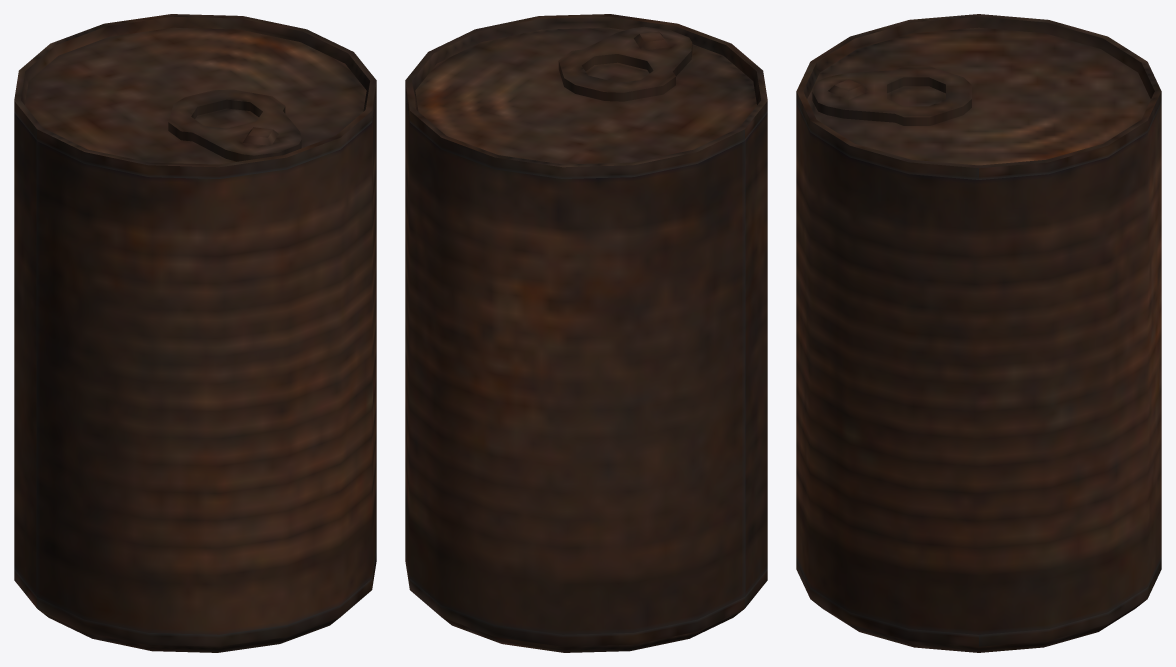
File: canned_food_mp_5_rusty.obj
3 renders of one model, left to right at view 1: azimuth 30°, elevation 25°; view 2: azimuth 150°, elevation 25°; view 3: azimuth 270°, elevation 25°, orthographic.
Parts seen in each view (by area): view 1: canned_food_mp_5_rusty; view 2: canned_food_mp_5_rusty; view 3: canned_food_mp_5_rusty.
Boxes of the visible parts, x1=… form: canned_food_mp_5_rusty: x1=14, y1=14, x2=376, y2=652; canned_food_mp_5_rusty: x1=405, y1=14, x2=767, y2=652; canned_food_mp_5_rusty: x1=796, y1=14, x2=1161, y2=652.
Size of the model in its own units: 3.58 by 5.38 by 3.58.
1 material, 1 textured.
